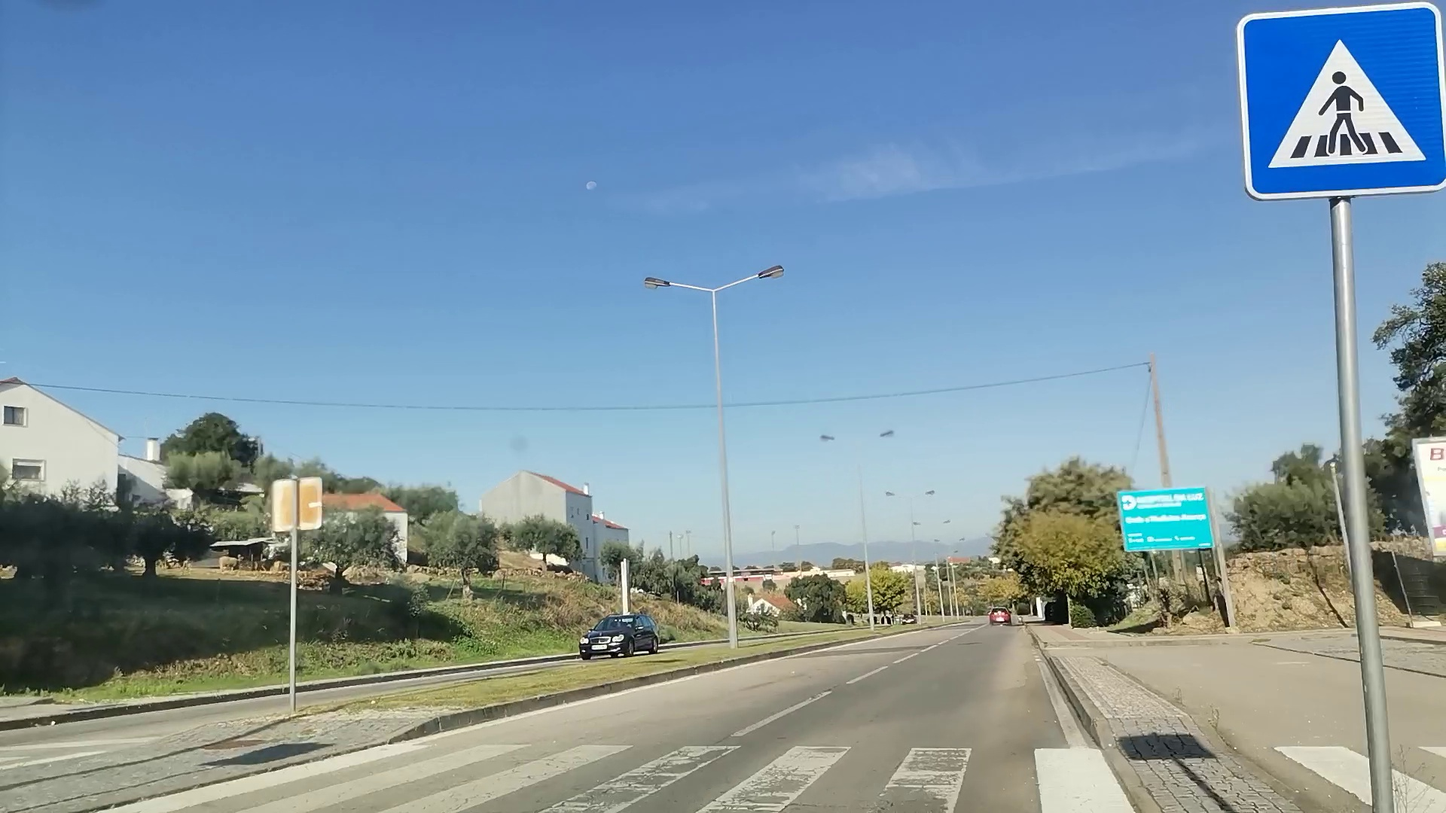Stairs: (346, 739, 1130, 813)
